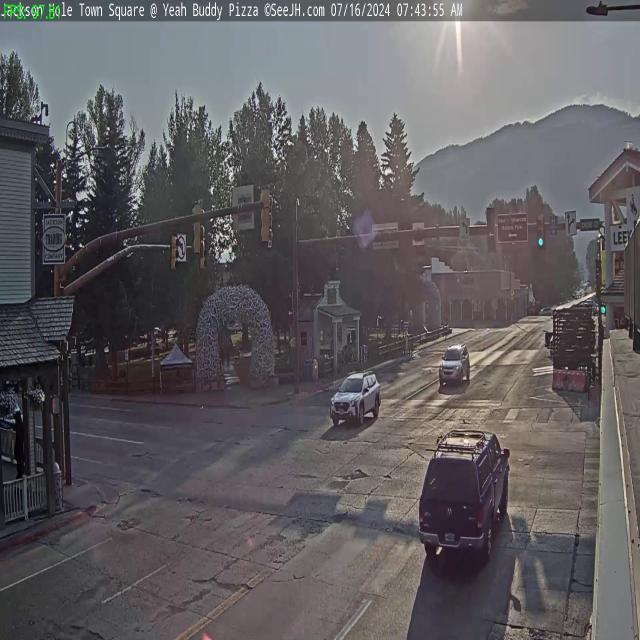sedan: (329, 371, 382, 426), (438, 343, 471, 390)
suv: (258, 186, 274, 247), (192, 200, 204, 258), (486, 206, 496, 252), (170, 232, 178, 270), (537, 215, 545, 248), (200, 238, 208, 270)
traffic light: (418, 427, 510, 561)
